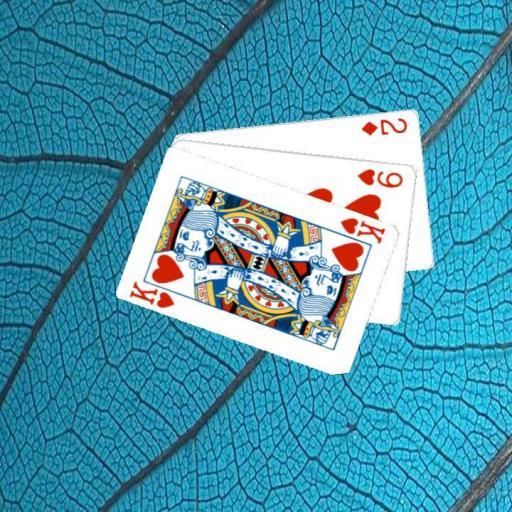2D: (358, 114, 409, 137)
9H: (355, 165, 405, 189)
KH: (127, 278, 177, 310), (337, 214, 388, 245)
